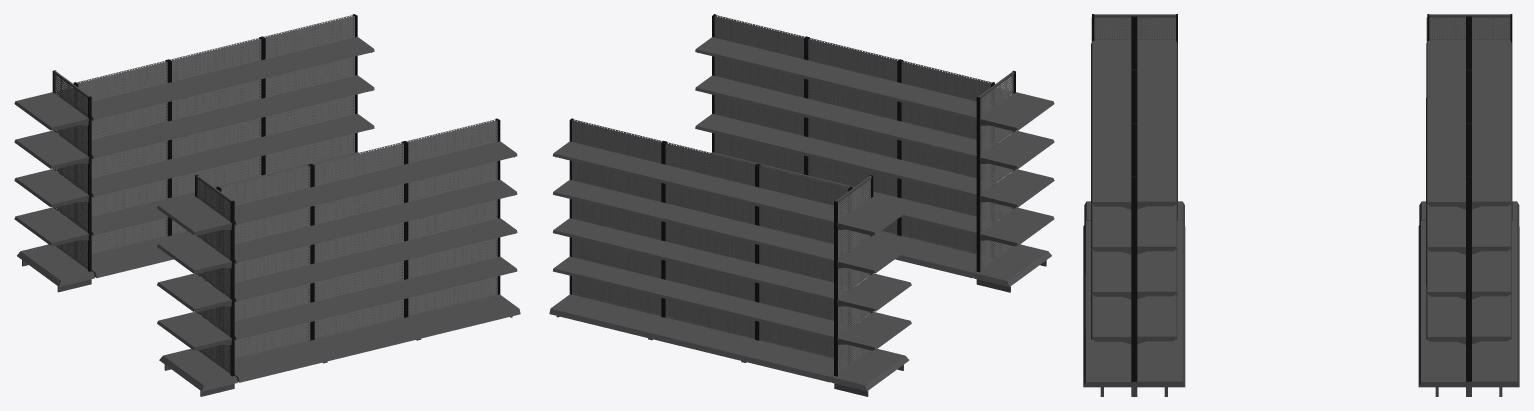
Rendered from Shelves.fbx.
3 views of the same model, side by side, from view 1: azimuth 30°, elevation 25°; view 2: azimuth 150°, elevation 25°; view 3: azimuth 270°, elevation 25° (orthographic). The views are drawn at different scales.
Visible parts, largest first — view 1: Shelf_ShelfBack3 (×4), Shelf_ShelfBack4 (×4), Shelf_ShelfBack2 (×4), Shelf_ShelfBack (×2), Shelf_ShelfMain2 (×2), Shelf_Shelf22 (×2), Shelf_Shelf19 (×2), Shelf_Shelf23 (×2), Shelf_Shelf21 (×2), Shelf_Shelf17 (×2), Shelf_Shelf18 (×2), Shelf_ShelfMain (×2) (+13 smaller); view 2: Shelf_ShelfBack3 (×4), Shelf_ShelfBack2 (×4), Shelf_ShelfBack4 (×4), Shelf_ShelfBack (×2), Shelf_ShelfMain4 (×2), Shelf_Shelf19 (×2), Shelf_Shelf15 (×2), Shelf_Shelf17 (×2), Shelf_Shelf18 (×2), Shelf_Shelf13 (×2), Shelf_Shelf14 (×2), Shelf_ShelfMain (×2) (+13 smaller); view 3: Shelf_Shelf23 (×4), Shelf_Shelf15 (×4), Shelf_Shelf19 (×4), Shelf_ShelfMain4 (×4), Shelf_ShelfMain2 (×4), Shelf_ShelfBack (×2), Shelf_Shelf13 (×2), Shelf_Shelf12 (×2), Shelf_Shelf14 (×2), Shelf_Shelf22 (×2), Shelf_Shelf21 (×2), Shelf_Shelf20 (×2) (+4 smaller).
Part boxes in pixels (x1,y1,x2,y2): Shelf_ShelfBack3 (×4): (170, 38, 403, 339); Shelf_ShelfBack4 (×4): (76, 16, 497, 356); Shelf_ShelfBack2 (×4): (78, 15, 495, 358); Shelf_ShelfBack (×2): (54, 74, 230, 373); Shelf_ShelfMain2 (×2): (78, 235, 333, 382); Shelf_Shelf22 (×2): (264, 75, 517, 217); Shelf_Shelf19 (×2): (170, 59, 423, 201); Shelf_Shelf23 (×2): (264, 37, 517, 178); Shelf_Shelf21 (×2): (264, 113, 517, 255); Shelf_Shelf17 (×2): (171, 136, 423, 278); Shelf_Shelf18 (×2): (171, 98, 423, 240); Shelf_ShelfMain (×2): (17, 244, 237, 391); Shelf_ShelfBack3 (×4): (665, 38, 898, 338); Shelf_ShelfBack2 (×4): (572, 16, 992, 354); Shelf_ShelfBack4 (×4): (573, 15, 991, 360); Shelf_ShelfBack (×2): (838, 75, 1013, 374); Shelf_ShelfMain4 (×2): (736, 235, 991, 382); Shelf_Shelf19 (×2): (646, 60, 898, 201); Shelf_Shelf15 (×2): (553, 37, 805, 178); Shelf_Shelf17 (×2): (646, 136, 898, 278); Shelf_Shelf18 (×2): (646, 98, 898, 240); Shelf_Shelf13 (×2): (553, 113, 805, 255); Shelf_Shelf14 (×2): (553, 75, 805, 217); Shelf_ShelfMain (×2): (831, 244, 1051, 391); Shelf_Shelf23 (×4): (1091, 40, 1511, 204); Shelf_Shelf15 (×4): (1091, 41, 1511, 204); Shelf_Shelf19 (×4): (1091, 94, 1511, 150); Shelf_ShelfMain4 (×4): (1083, 220, 1519, 387); Shelf_ShelfMain2 (×4): (1083, 221, 1519, 387); Shelf_ShelfBack (×2): (1094, 17, 1510, 40); Shelf_Shelf13 (×2): (1137, 249, 1511, 294); Shelf_Shelf12 (×2): (1137, 294, 1511, 339); Shelf_Shelf14 (×2): (1137, 204, 1511, 249); Shelf_Shelf22 (×2): (1091, 205, 1465, 249); Shelf_Shelf21 (×2): (1091, 250, 1465, 294); Shelf_Shelf20 (×2): (1091, 295, 1465, 339).
Size of the model in its own units: 392 by 217 by 390.
Materials: 3 (2 with a texture image).
